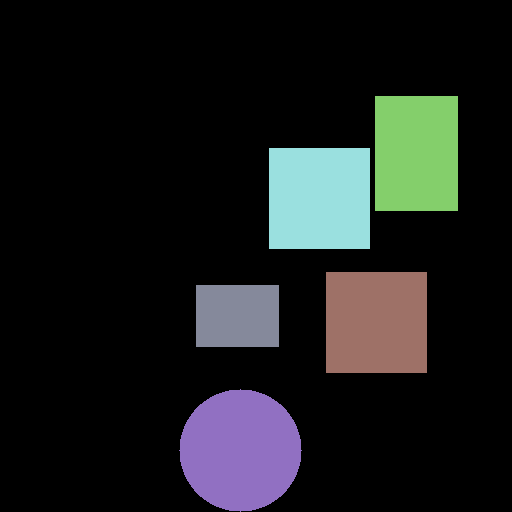circle: (179, 389, 301, 511)
rectangle: (375, 96, 457, 210), (196, 285, 278, 346)
square: (326, 272, 426, 372), (269, 148, 369, 248)
